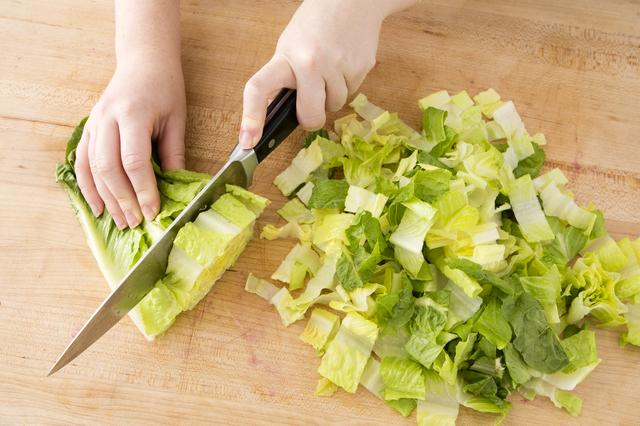chopped lettuce: (301, 135, 640, 412), (89, 174, 271, 338)
